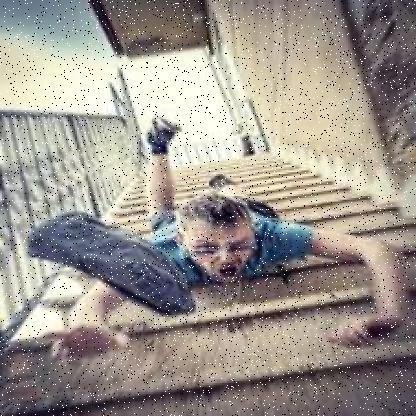stair_down: (95, 273, 337, 394)
